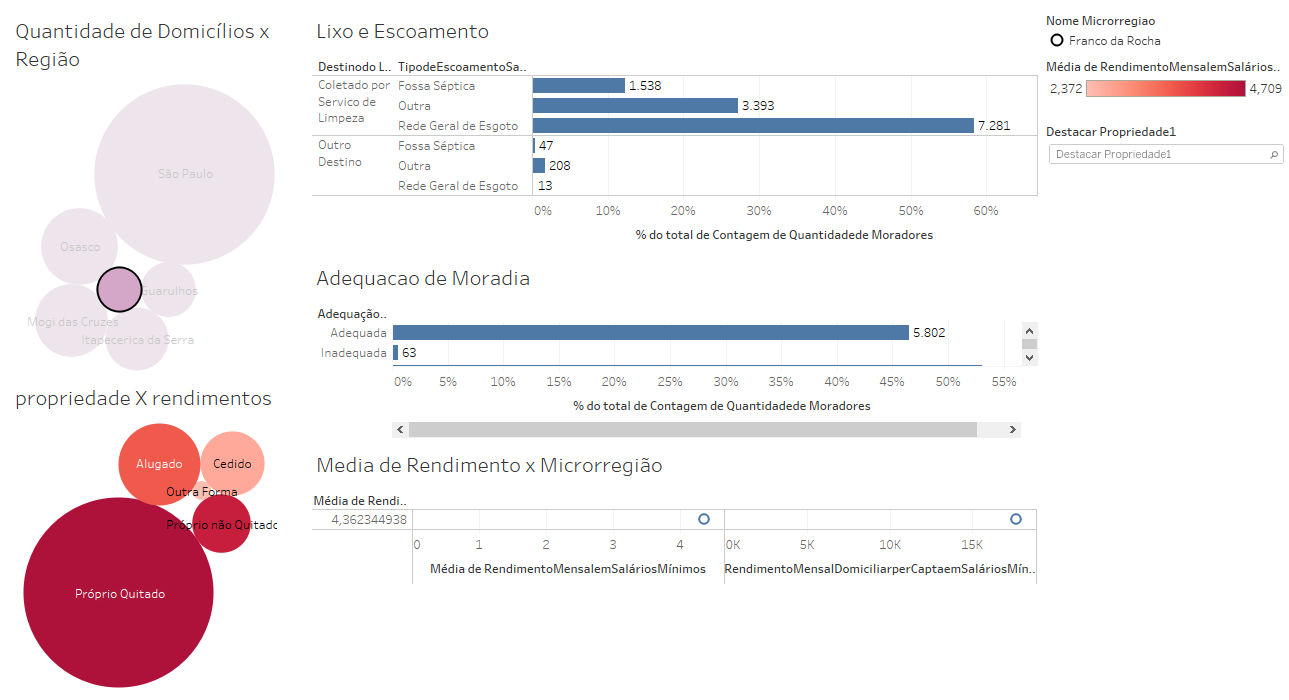

The dashboard page shown, as its layout file describes it:
{"tool":"tableau","page":{"name":"Região com Menos Condições Econômicas","canvas":[1300,700],"ordinal":0},"visuals":[{"type":"worksheet","title":"Quantidade de Domicilios x Regiao","mark":"Circle","box":[8,8,301.5,367]},{"type":"worksheet","title":"Lixo e Escoamento","mark":"Automatic","rows":["DestinodoLixo","TipodeEscoamentoSanitário"],"cols":["QuantidadedeMoradores"],"box":[309.5,8,733.5,247]},{"type":"legend","title":"Media de Rendimento x Microrregião","param":"[federated.00x7x751m9ag9c12wtu0t02c5b1i].[none:NomeMicrorregiao:nk]","box":[1043,8,249,146]},{"type":"legend","title":"propriedade X rendimentos","param":"[federated.00x7x751m9ag9c12wtu0t02c5b1i].[avg:RendimentoMensalemSaláriosMínimos:","box":[1043,154,249,65]},{"type":"highlighter","title":"propriedade X rendimentos","param":"[federated.00x7x751m9ag9c12wtu0t02c5b1i].[none:Propriedade:nk]","box":[1043,219,249,52]},{"type":"worksheet","title":"Adequacao de Moradia","mark":"Automatic","rows":["AdequaçãodaMoradia"],"cols":["QuantidadedeMoradores"],"box":[309.5,255,733.5,187]},{"type":"worksheet","title":"propriedade X rendimentos","mark":"Circle","box":[8,375,301.5,317]},{"type":"worksheet","title":"Media de Rendimento x Microrregião","mark":"Shape","rows":["RendimentoMensalemSaláriosMínimos"],"cols":["RendimentoMensalemSaláriosMínimos","RendimentoMensalDomiciliarperCaptaemSaláriosMínimos"],"box":[309.5,442,733.5,250]}]}

Visuals, with their boxes in screenshot pixels (x1, y1, x2, y2), scaled from the page's 1300x700 canvas onto the 1289x700 screenshot:
"Quantidade de Domicilios x Regiao" worksheet (Circle marks): 8/8/307/375
"Lixo e Escoamento" worksheet: 307/8/1034/255
"Media de Rendimento x Microrregião" legend: 1034/8/1281/154
"propriedade X rendimentos" legend: 1034/154/1281/219
"propriedade X rendimentos" highlighter: 1034/219/1281/271
"Adequacao de Moradia" worksheet: 307/255/1034/442
"propriedade X rendimentos" worksheet (Circle marks): 8/375/307/692
"Media de Rendimento x Microrregião" worksheet (Shape marks): 307/442/1034/692
